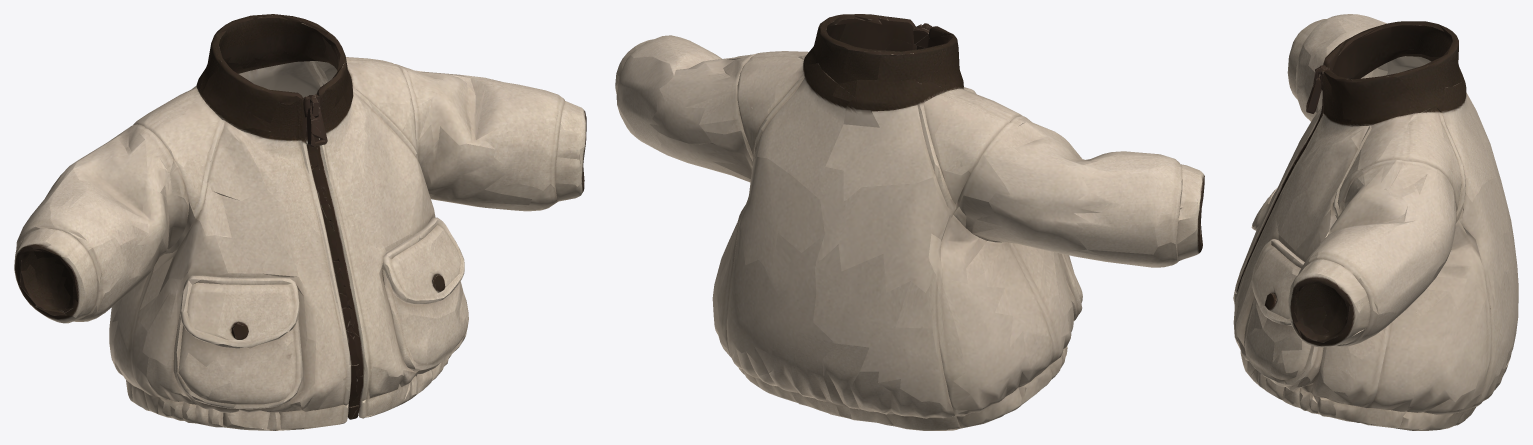
Rendered from oatmeal-utility-blouson.glb.
3 views of the same model, side by side, from view 1: azimuth 30°, elevation 25°; view 2: azimuth 150°, elevation 25°; view 3: azimuth 270°, elevation 25° (orthographic). The views are drawn at different scales.
Parts seen in each view (by area): view 1: Mesh_0; view 2: Mesh_0; view 3: Mesh_0.
Part boxes in pixels (box(x1,y1,x2,y2)): Mesh_0: box(14, 14, 586, 430); Mesh_0: box(615, 14, 1204, 430); Mesh_0: box(1233, 14, 1518, 430).
Size of the model in its own units: 1.9 by 1.13 by 0.8547.
Materials: 1 (1 with a texture image).
